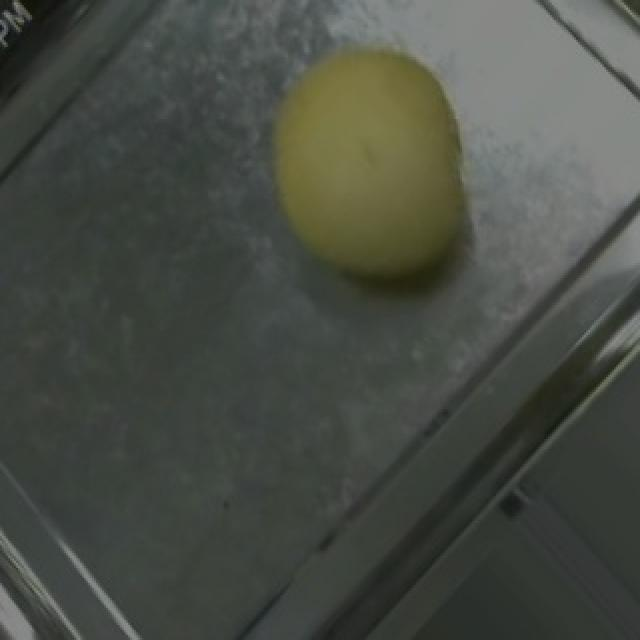Fruit: (220, 5, 520, 325)
